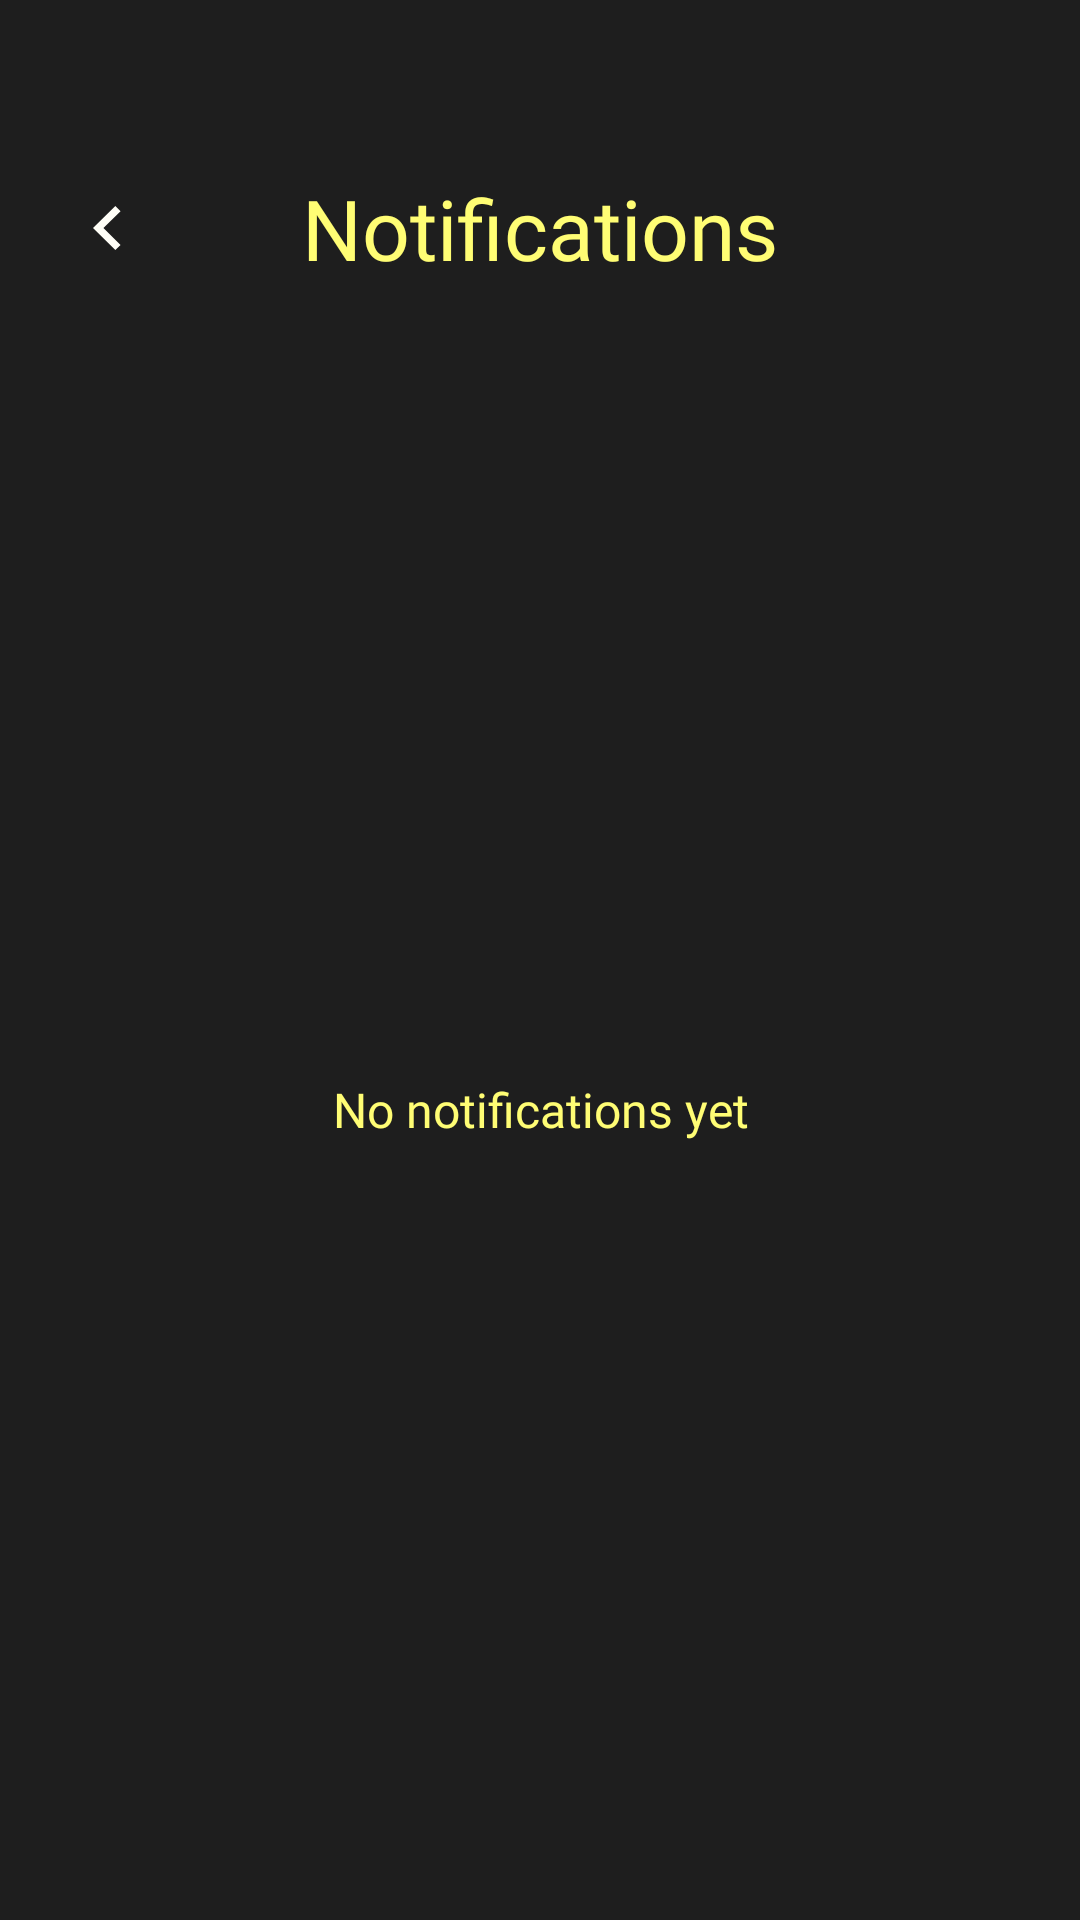

Icon bounding boxes for this 1080x1920 phone screenshot, format (x1, y1, x2, y2):
back: (93, 206, 121, 250)
